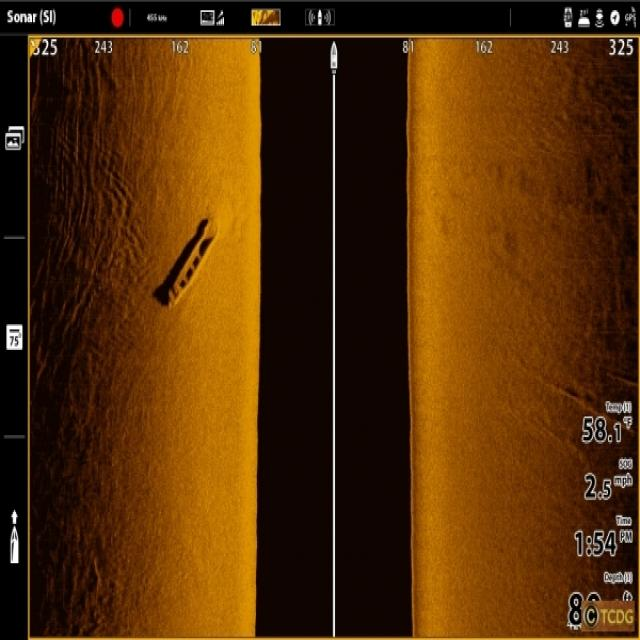ship: (162, 215, 219, 306)
